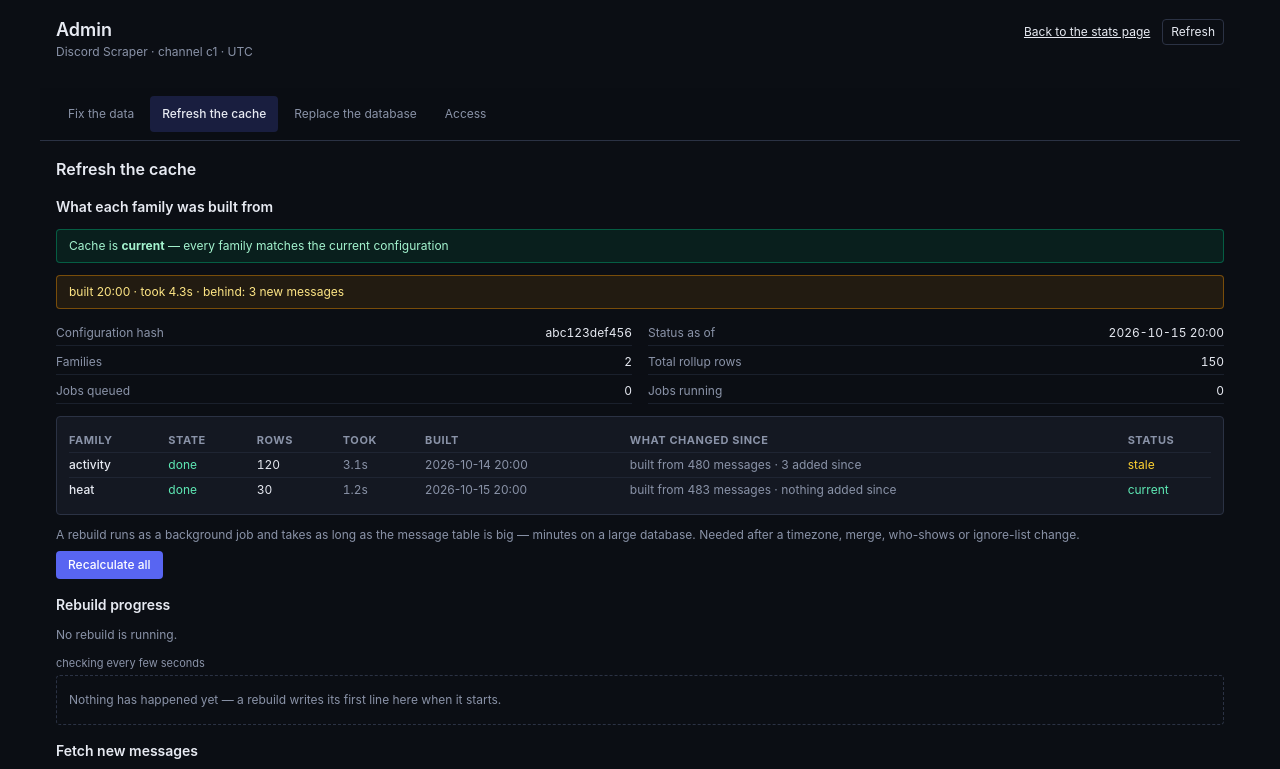
it: <Admin> › labels a merged identity with its account count in Who shows
Click the button "Fix the data".
click(101, 114)  # box [56,96,146,132]
(page scrolled)
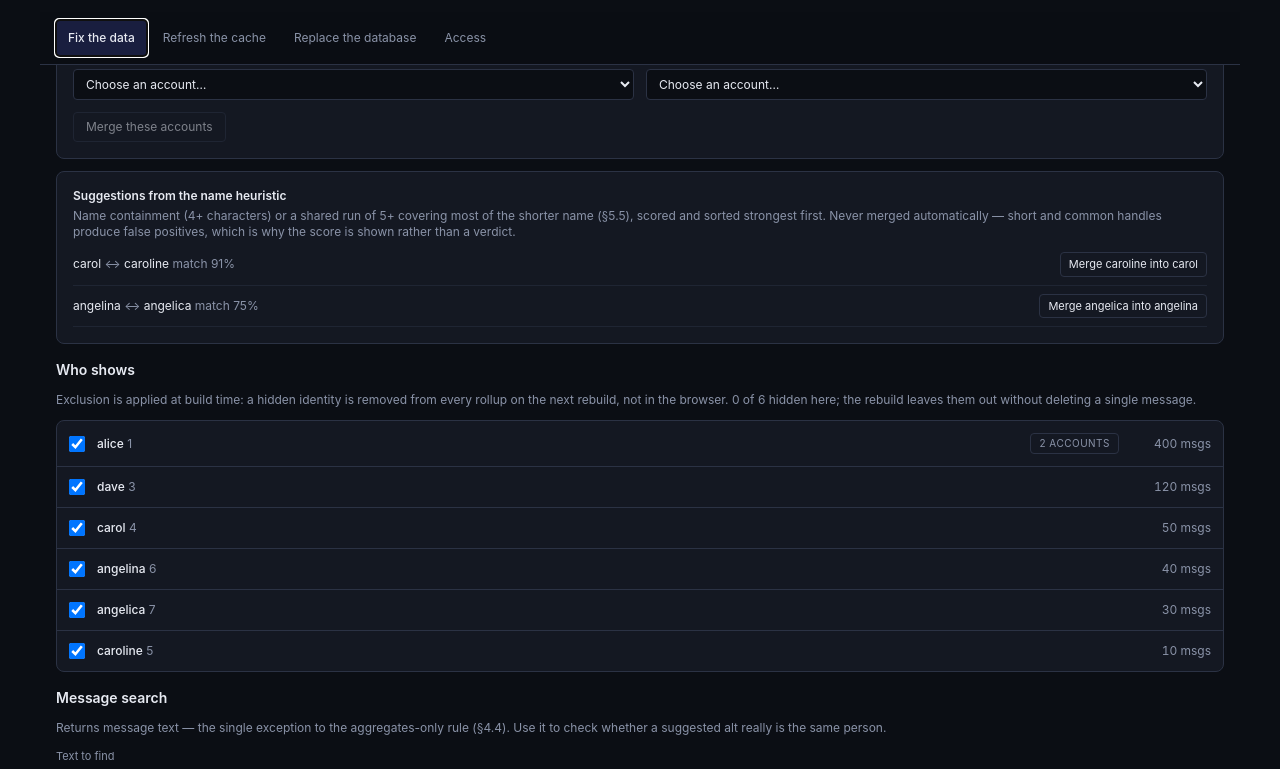
Expected: the text "2 accounts" is shown, [1030,433,1119,454]
Expected: the text "applied at build time" is shown, [56,392,732,407]
